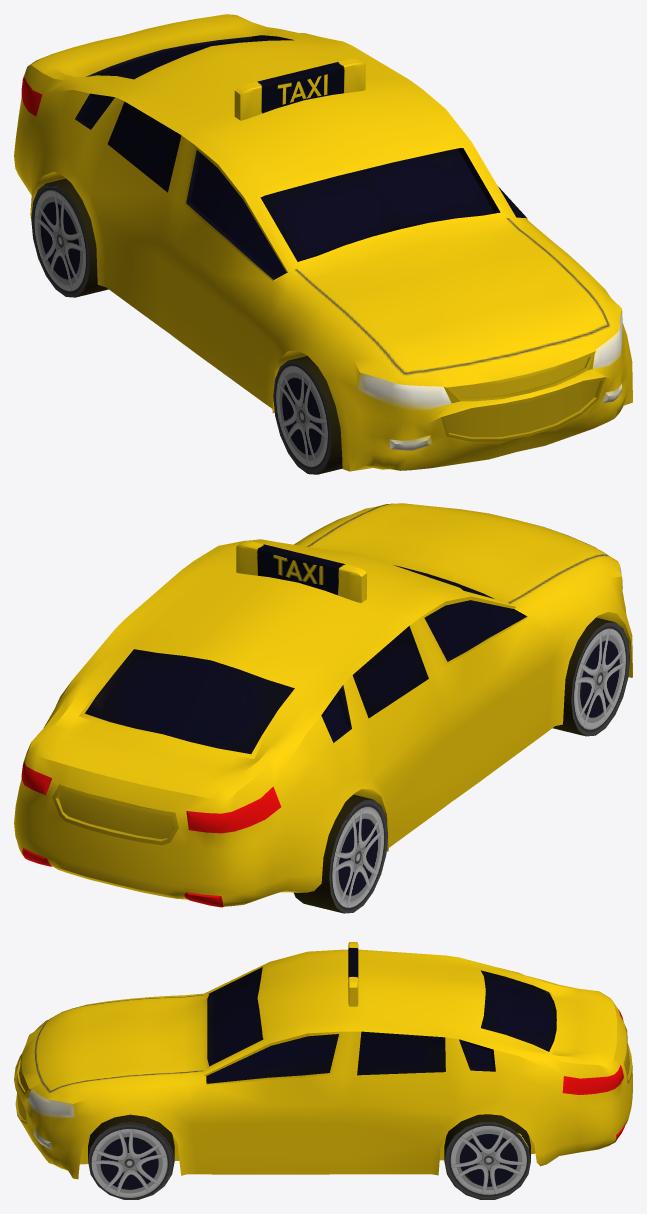
The model's file is car.glb.
The picture shows the model from 3 angles, top to bottom: view 1: azimuth 30°, elevation 25°; view 2: azimuth 150°, elevation 25°; view 3: azimuth 270°, elevation 25°; orthographic projection. The views are drawn at different scales.
Visible parts, largest first — view 1: car/taxi; view 2: car/taxi; view 3: car/taxi.
Part boxes in pixels (left/top/right/bottom): car/taxi: left=14, top=14, right=632, bottom=474; car/taxi: left=14, top=503, right=632, bottom=913; car/taxi: left=14, top=942, right=632, bottom=1199.
Bounding box in the file's own units: 2.45 × 1.97 × 6.01.
Materials: 1 (1 with a texture image).
